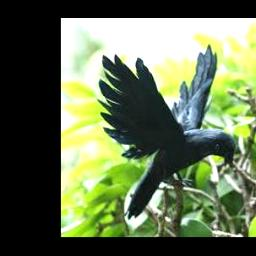Crow: (98, 43, 236, 220)
